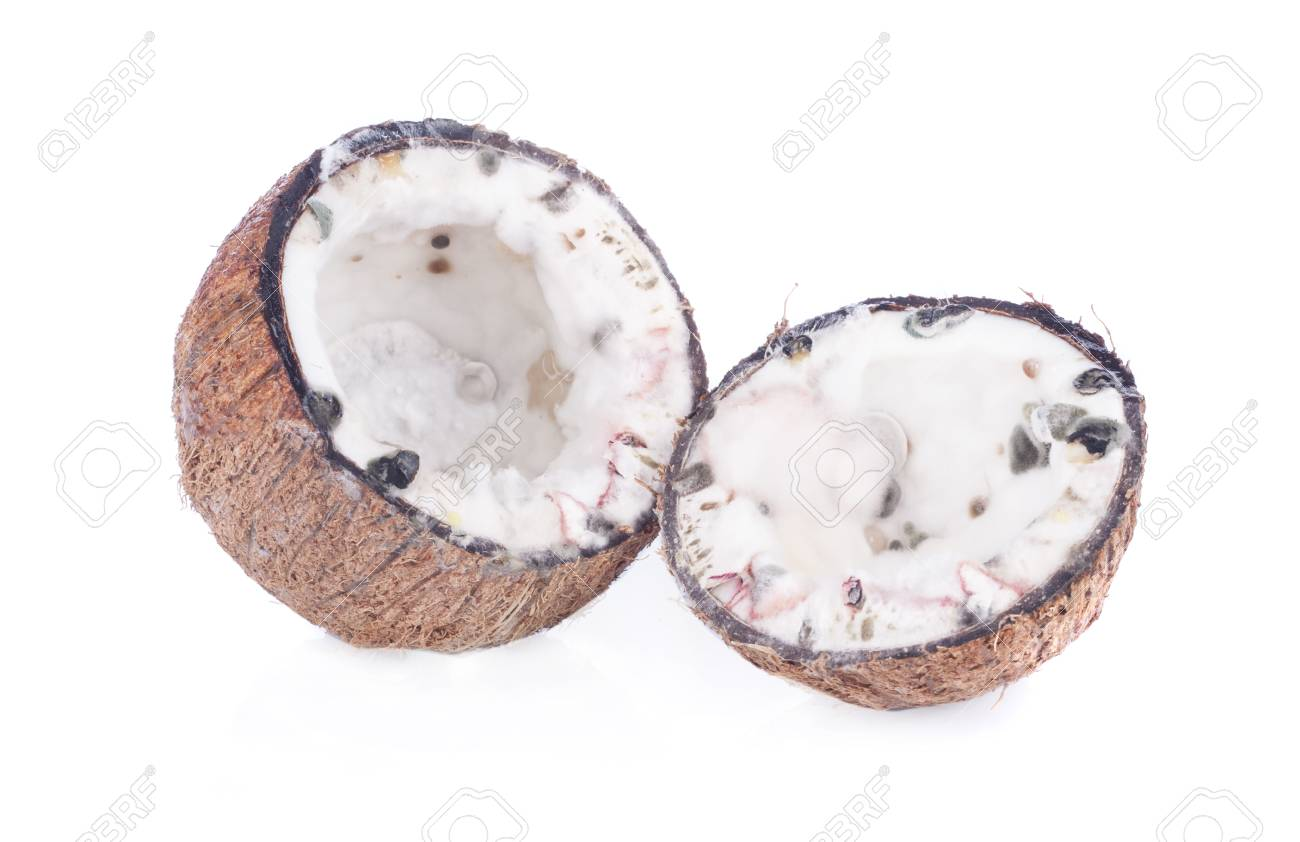damaged_coconut: (171, 127, 682, 624), (683, 305, 1157, 688)
